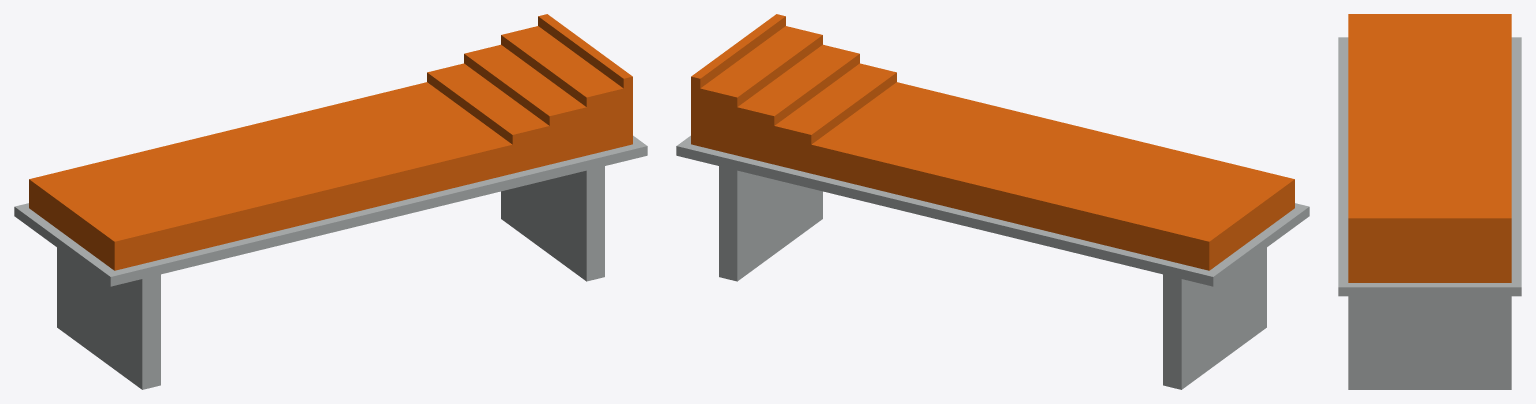
File: stretcher.glb
3 views of the same model, side by side, from view 1: azimuth 30°, elevation 25°; view 2: azimuth 150°, elevation 25°; view 3: azimuth 270°, elevation 25° (orthographic). The views are drawn at different scales.
Parts seen in each view (by area): view 1: body:compound; view 2: body:compound; view 3: body:compound.
Part boxes in pixels (x1=…): body:compound: x1=14, y1=14, x2=647, y2=389; body:compound: x1=676, y1=14, x2=1309, y2=389; body:compound: x1=1338, y1=14, x2=1521, y2=389.
Size of the model in its own units: 1.81 by 0.625 by 0.5625.
